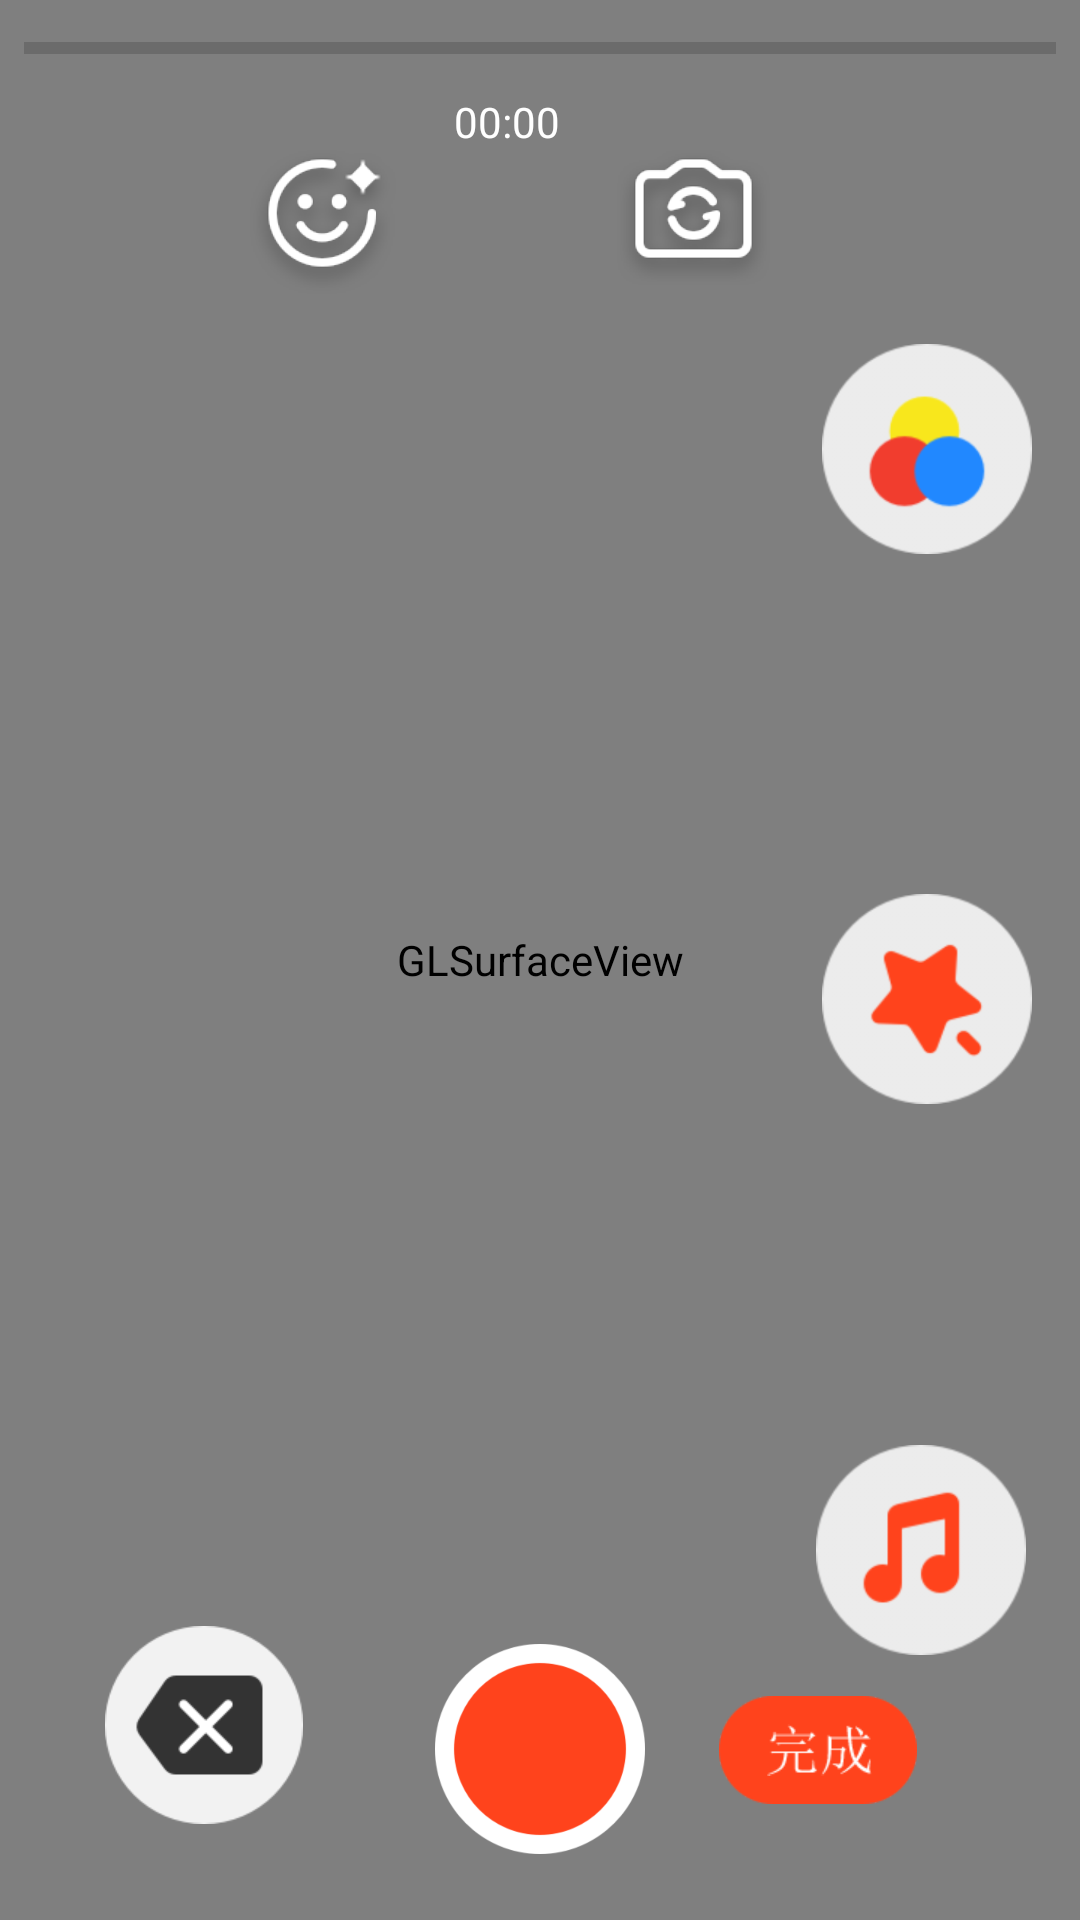

Icons on this 1080px×1920px Android screen, each with the point to tap as (x,y):
add effect: (927,999)
add filter: (927,449)
add music: (921,1550)
beauty face: (324,213)
delete back: (204,1725)
record: (540,1749)
switch camera: (693,215)
